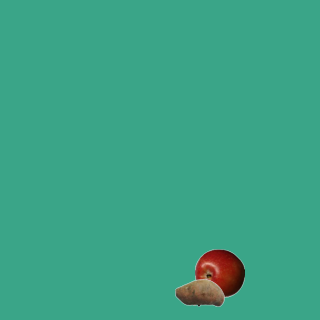Apple Braeburn: (194, 248, 244, 298)
Potato Sweet: (174, 267, 224, 317)
